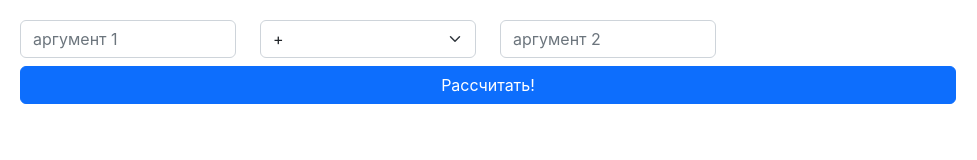
Test case: App component › testing the addition of numbers
Step 1. Select "+" in the list → [368, 39], box 260,20 -> 476,58
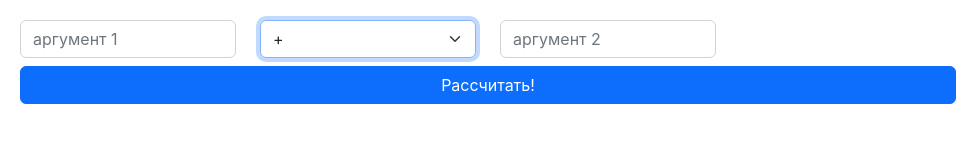
Step 2. Type "10" into the field named "firstArg" → [128, 39], box 20,20 -> 236,58
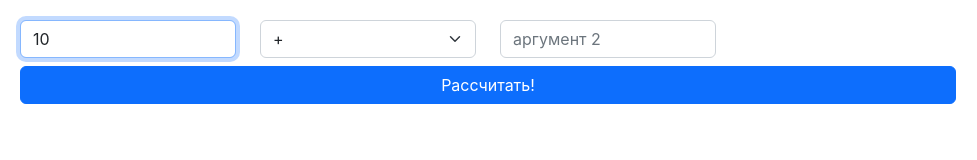
Step 3. Type "10" into the field named "secondArg" → [608, 39], box 500,20 -> 716,58
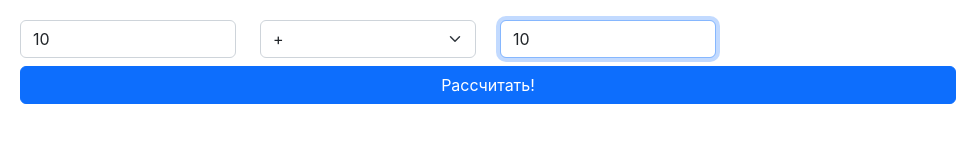
Step 4. Click the submit button → [488, 85], box 20,66 -> 956,104
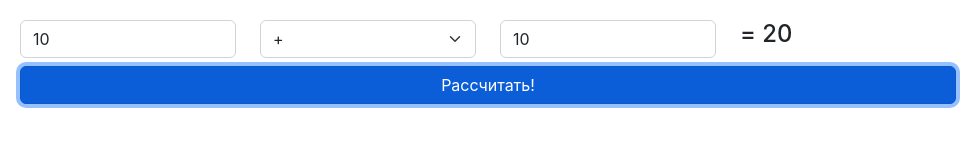
Expected: the heading "= 20" is shown, 740,19 -> 792,48
